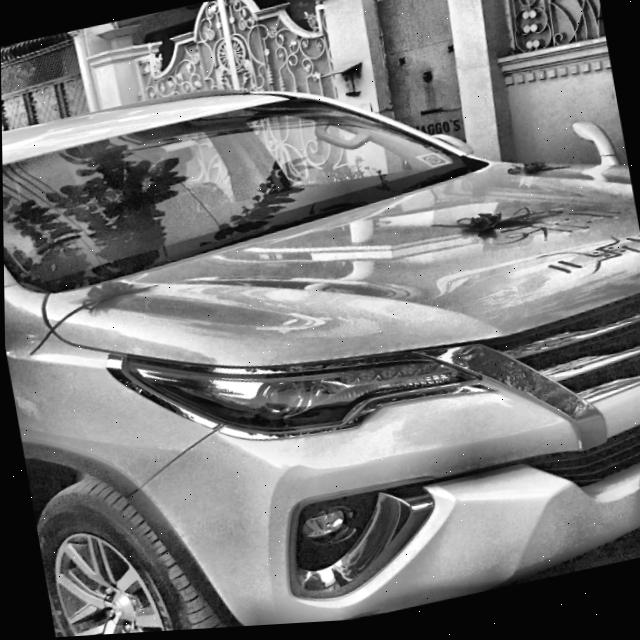light_vehicle: (0, 1, 640, 640)
